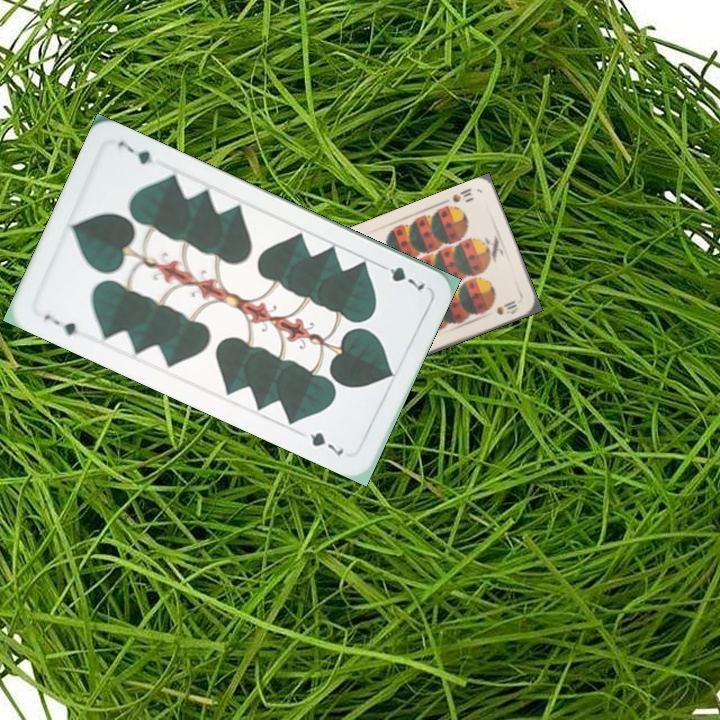G7: (373, 259, 428, 293), (40, 310, 81, 339)
S10: (448, 184, 474, 205)
